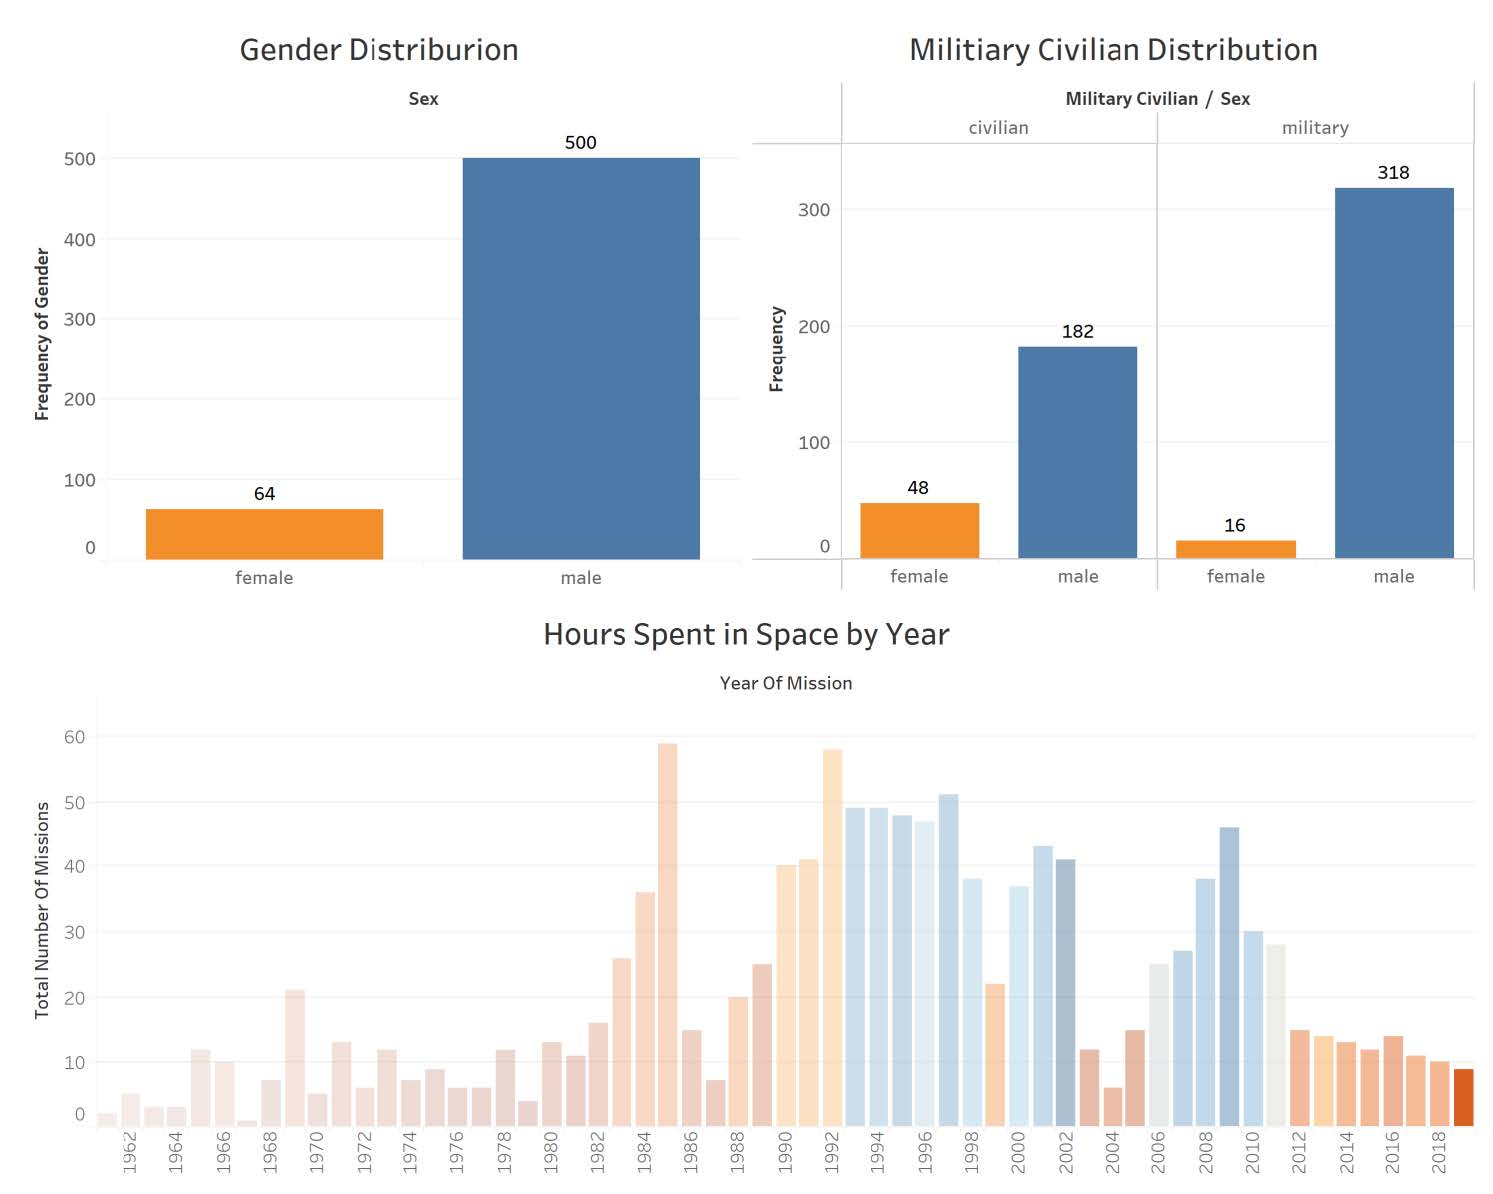

The page's visual inventory and layout, read from the dashboard file:
{"tool":"tableau","page":{"name":"Dashboard_Gender","canvas":[1000,800],"ordinal":1},"visuals":[{"type":"worksheet","title":"Gender_Distribution","mark":"Automatic","rows":["sex"],"cols":["sex"],"box":[8,8,492,392]},{"type":"worksheet","title":"Militiary_Civilian","mark":"Automatic","rows":["Astronaut!info_3119447D8CD4453BB0268E14B1046CEC"],"cols":["military_civilian","sex"],"box":[500,8,492,392]},{"type":"worksheet","title":"Total_Hours_GIF","mark":"Automatic","rows":["total_number_of_missions"],"cols":["year_of_mission"],"box":[8,400,984,392]}]}

Visuals, with their boxes in screenshot pixels (x1, y1, x2, y2), scaled from the page's 1000x800 canvas onto the 1493x1194 screenshot:
"Gender_Distribution" worksheet: pyautogui.locateOnScreen(12, 12, 746, 597)
"Militiary_Civilian" worksheet: pyautogui.locateOnScreen(746, 12, 1481, 597)
"Total_Hours_GIF" worksheet: pyautogui.locateOnScreen(12, 597, 1481, 1182)
